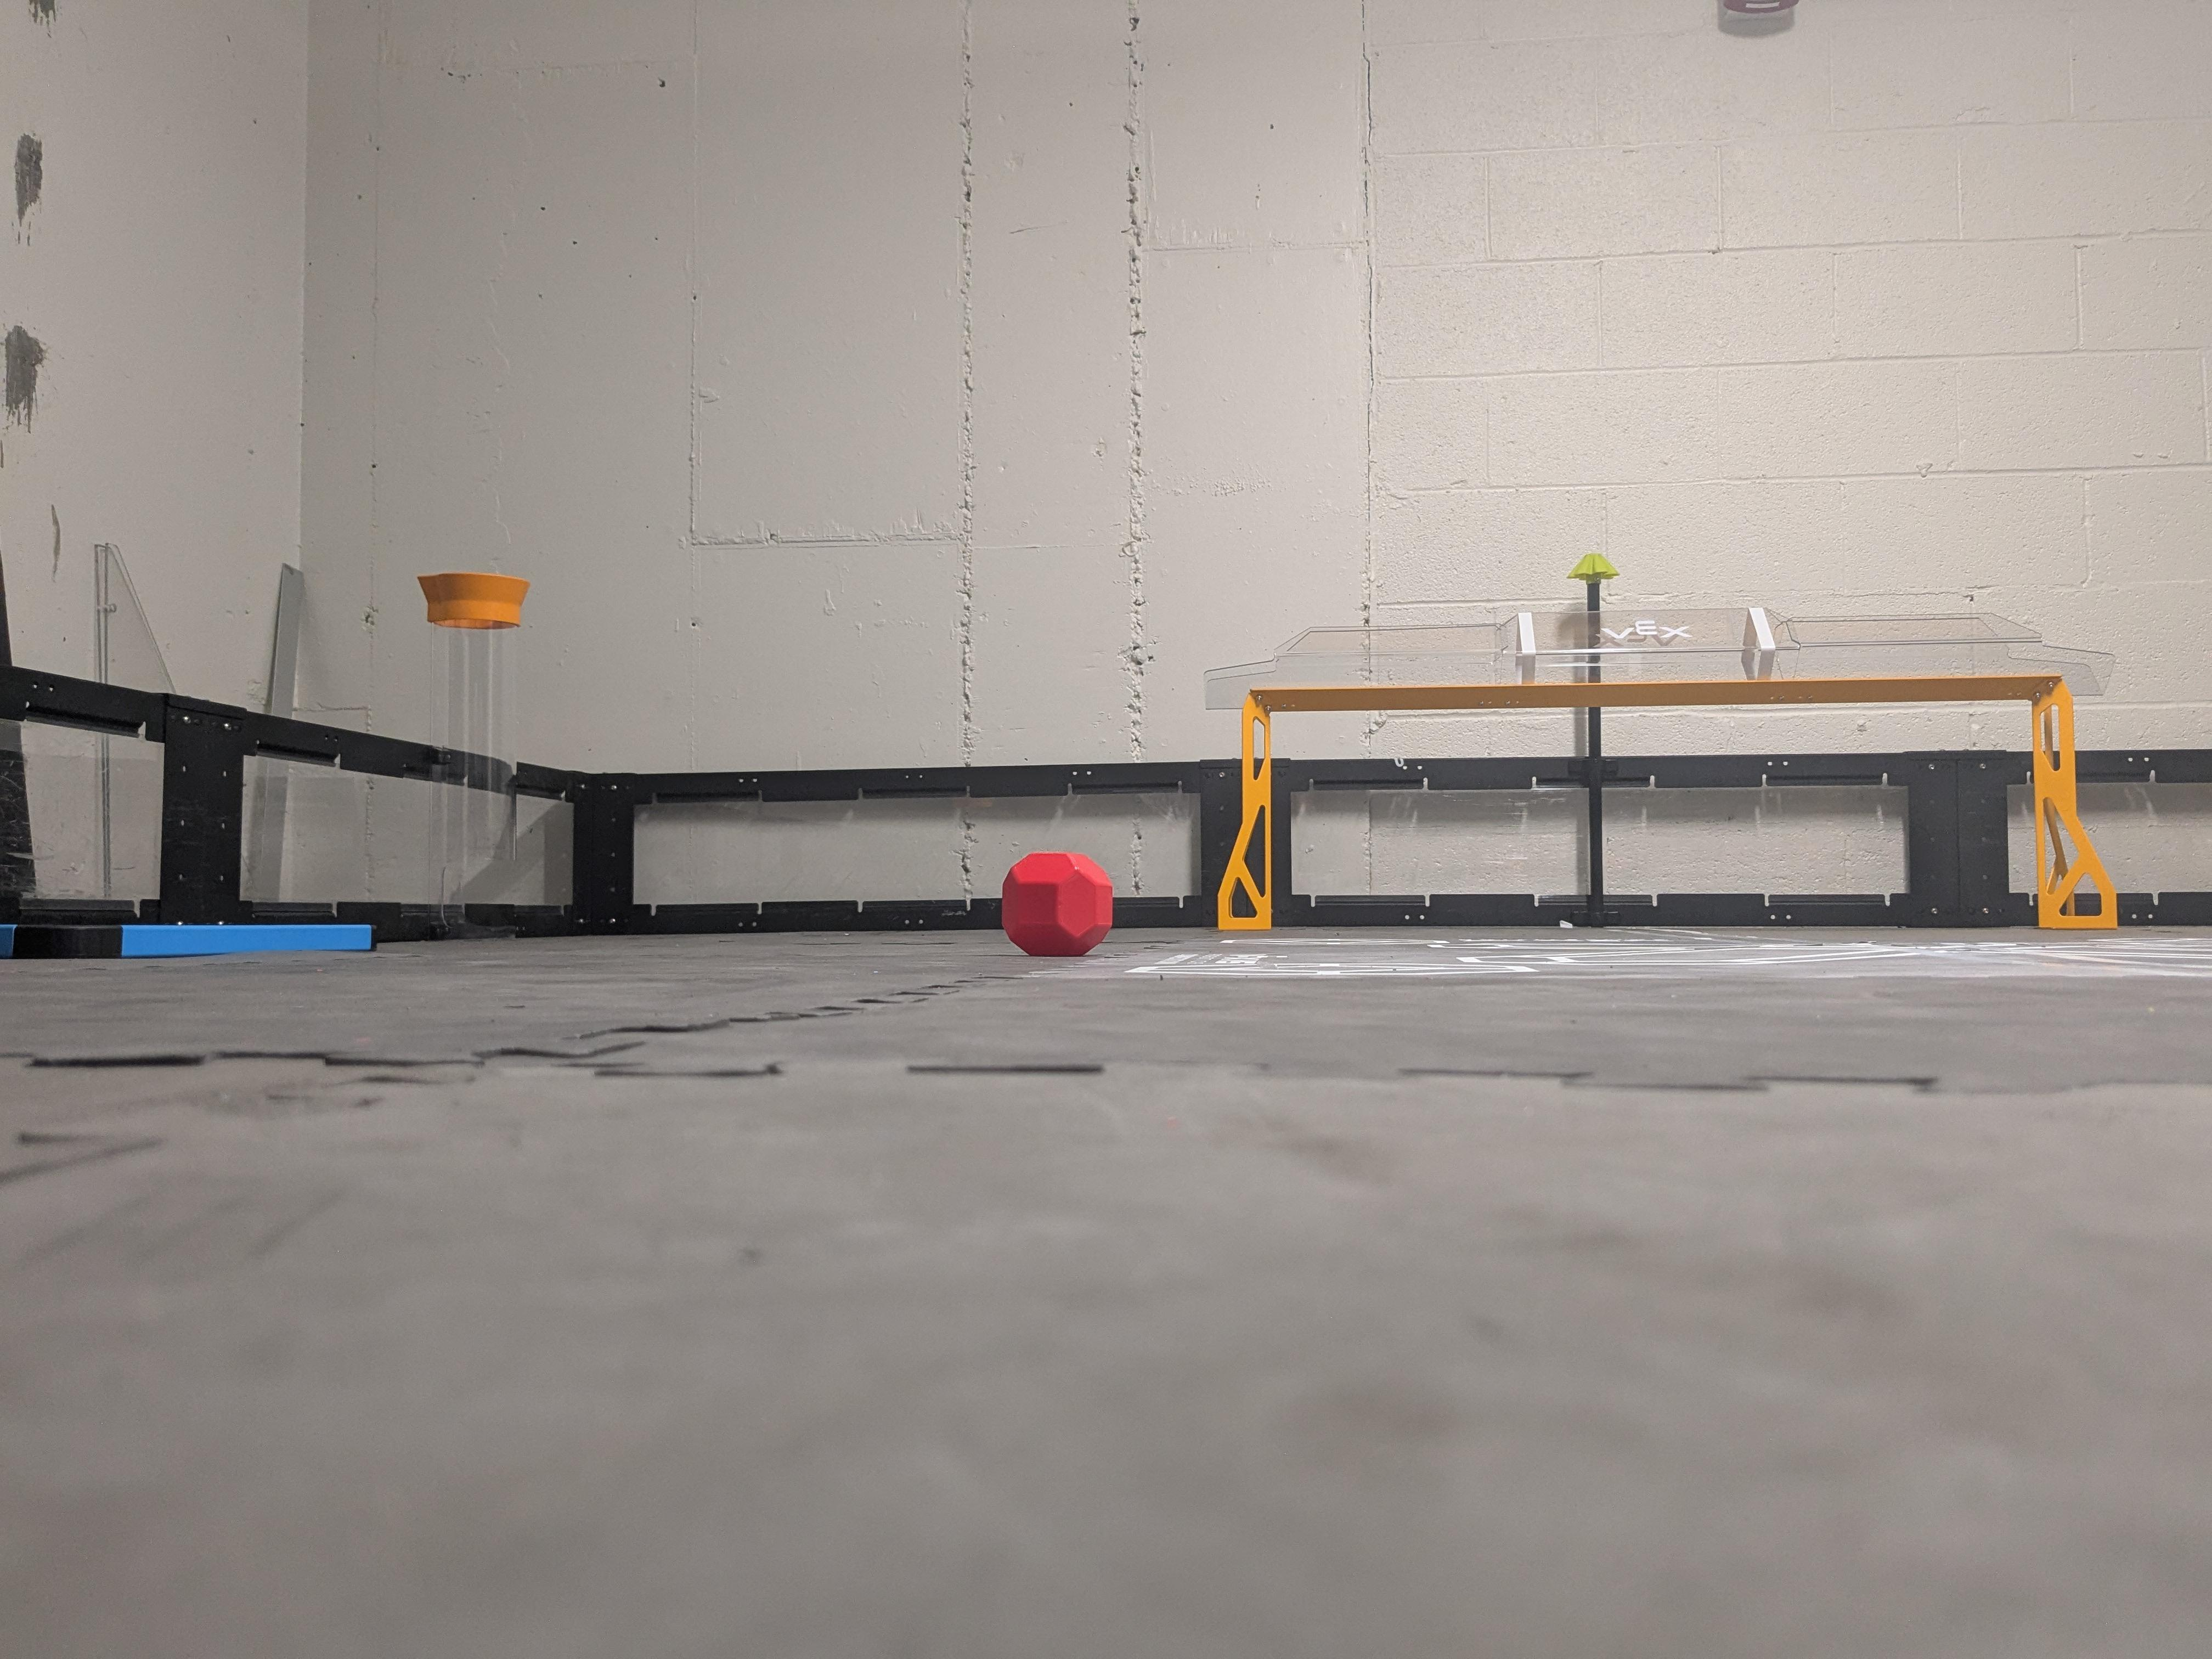Vex-Pieces-RED: (1001, 852, 1113, 955)
